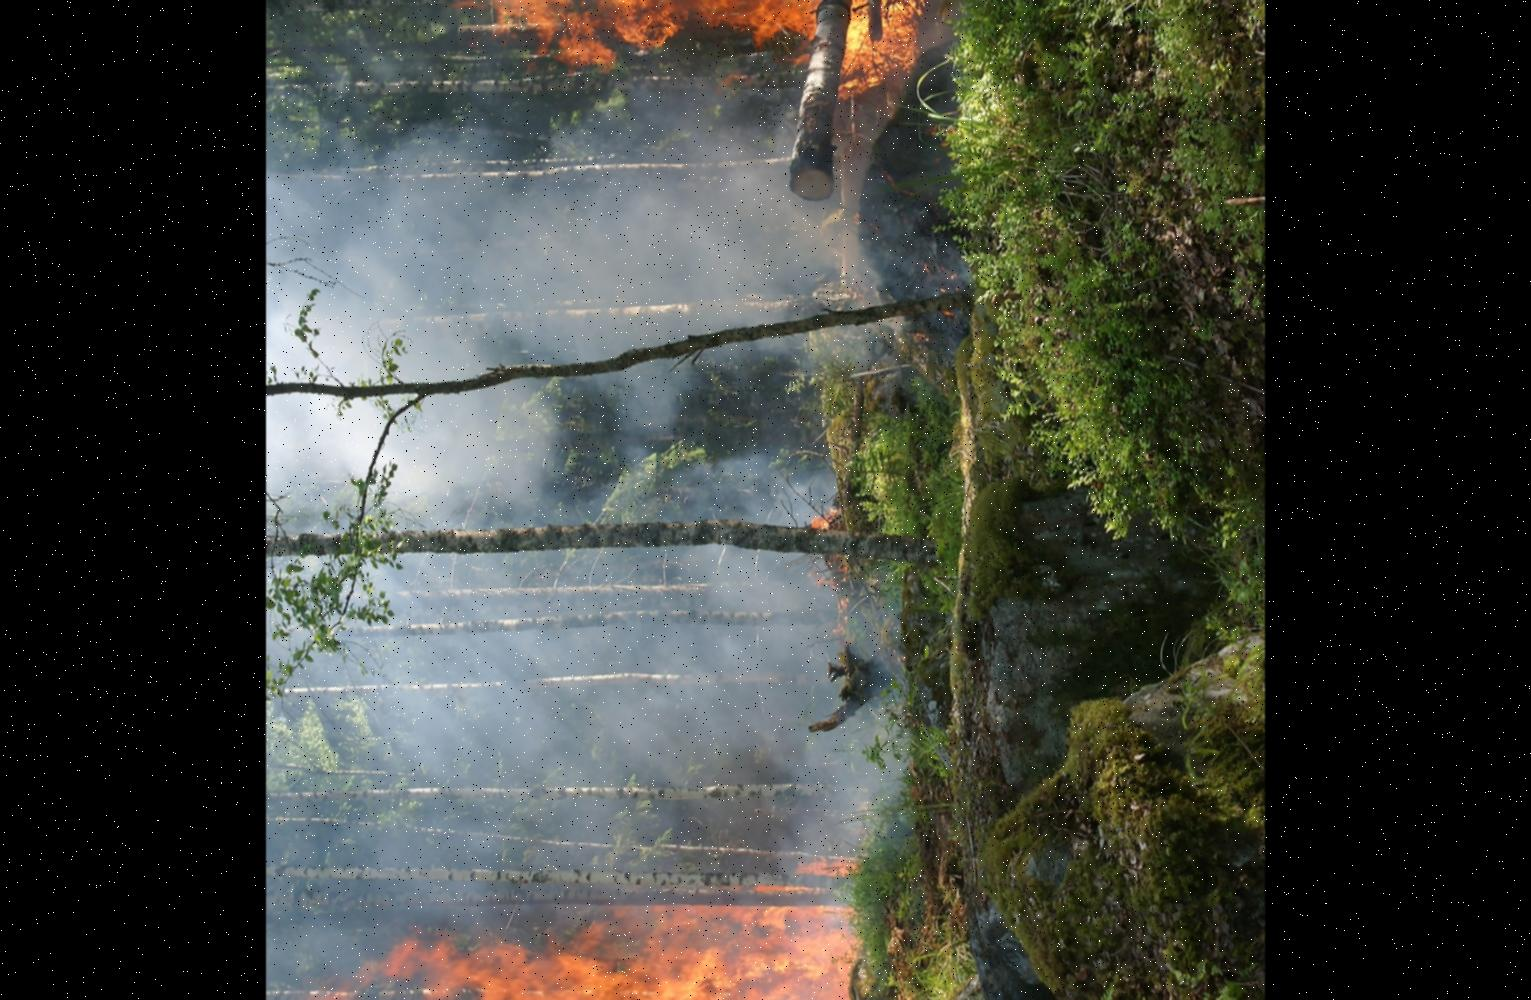fire: (343, 885, 931, 1000), (422, 0, 909, 70)
